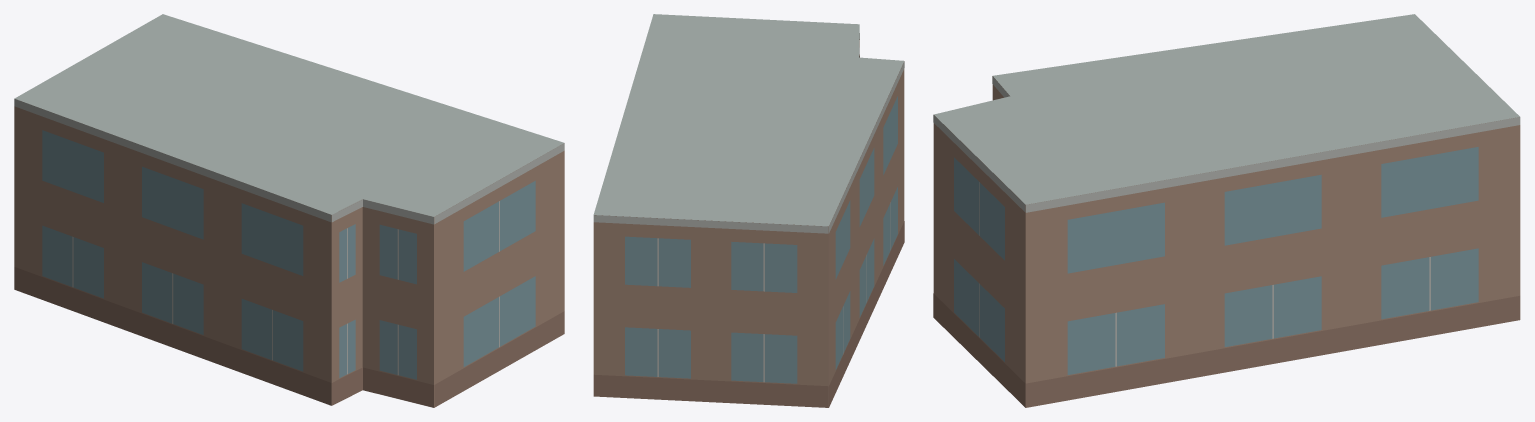
The model's file is survey-upis-32593041.glb.
3 renders of one model, left to right at view 1: azimuth 30°, elevation 25°; view 2: azimuth 150°, elevation 25°; view 3: azimuth 270°, elevation 25°, orthographic. The views are drawn at different scales.
Visible parts, largest first — view 1: survey-upis-32593041.tmp; view 2: survey-upis-32593041.tmp; view 3: survey-upis-32593041.tmp.
Boxes of the visible parts, x1,y1,x2,y2 form: survey-upis-32593041.tmp: [14, 14, 564, 407]; survey-upis-32593041.tmp: [593, 14, 904, 407]; survey-upis-32593041.tmp: [933, 14, 1520, 407].
Bounding box in the file's own units: 12.3 × 6.1 × 15.98.
